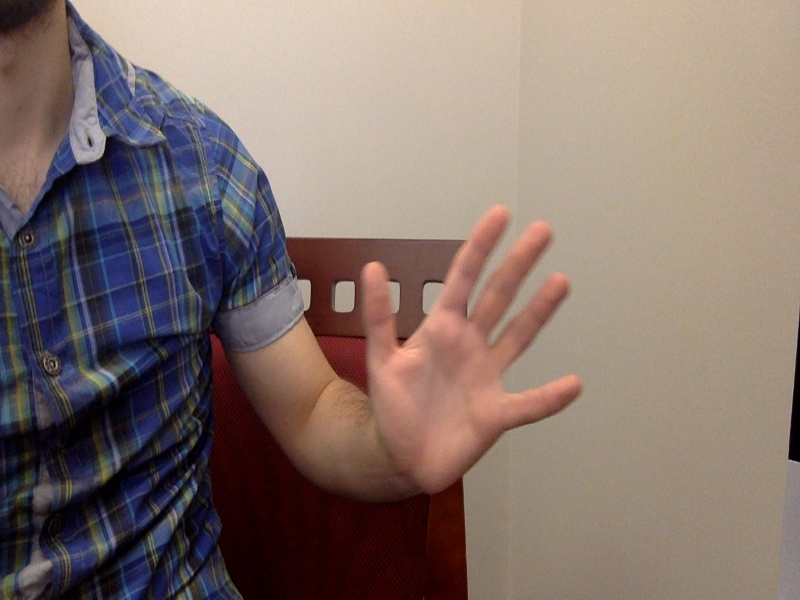5-hand: (360, 205, 584, 502)
